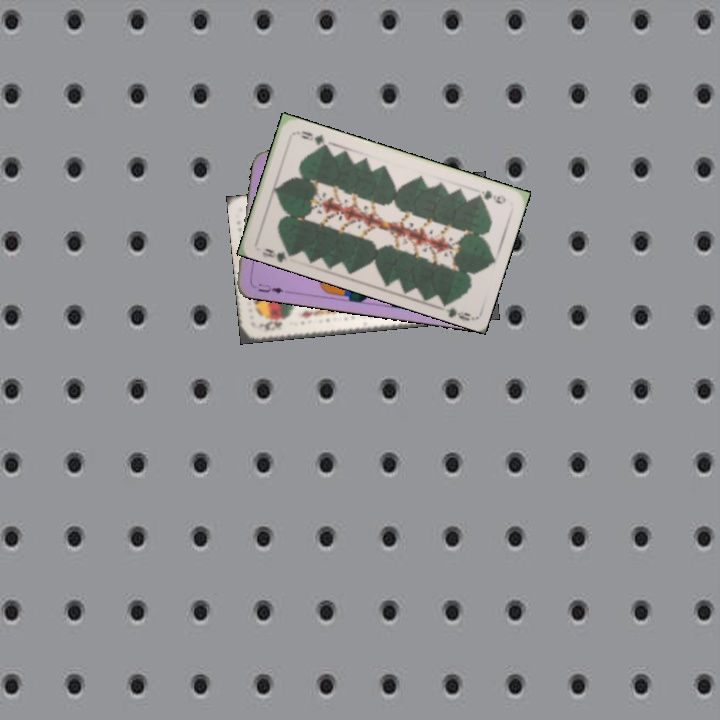EU: (254, 280, 286, 296)
G9: (472, 186, 509, 207), (258, 244, 295, 263)
SK: (257, 316, 284, 333)
